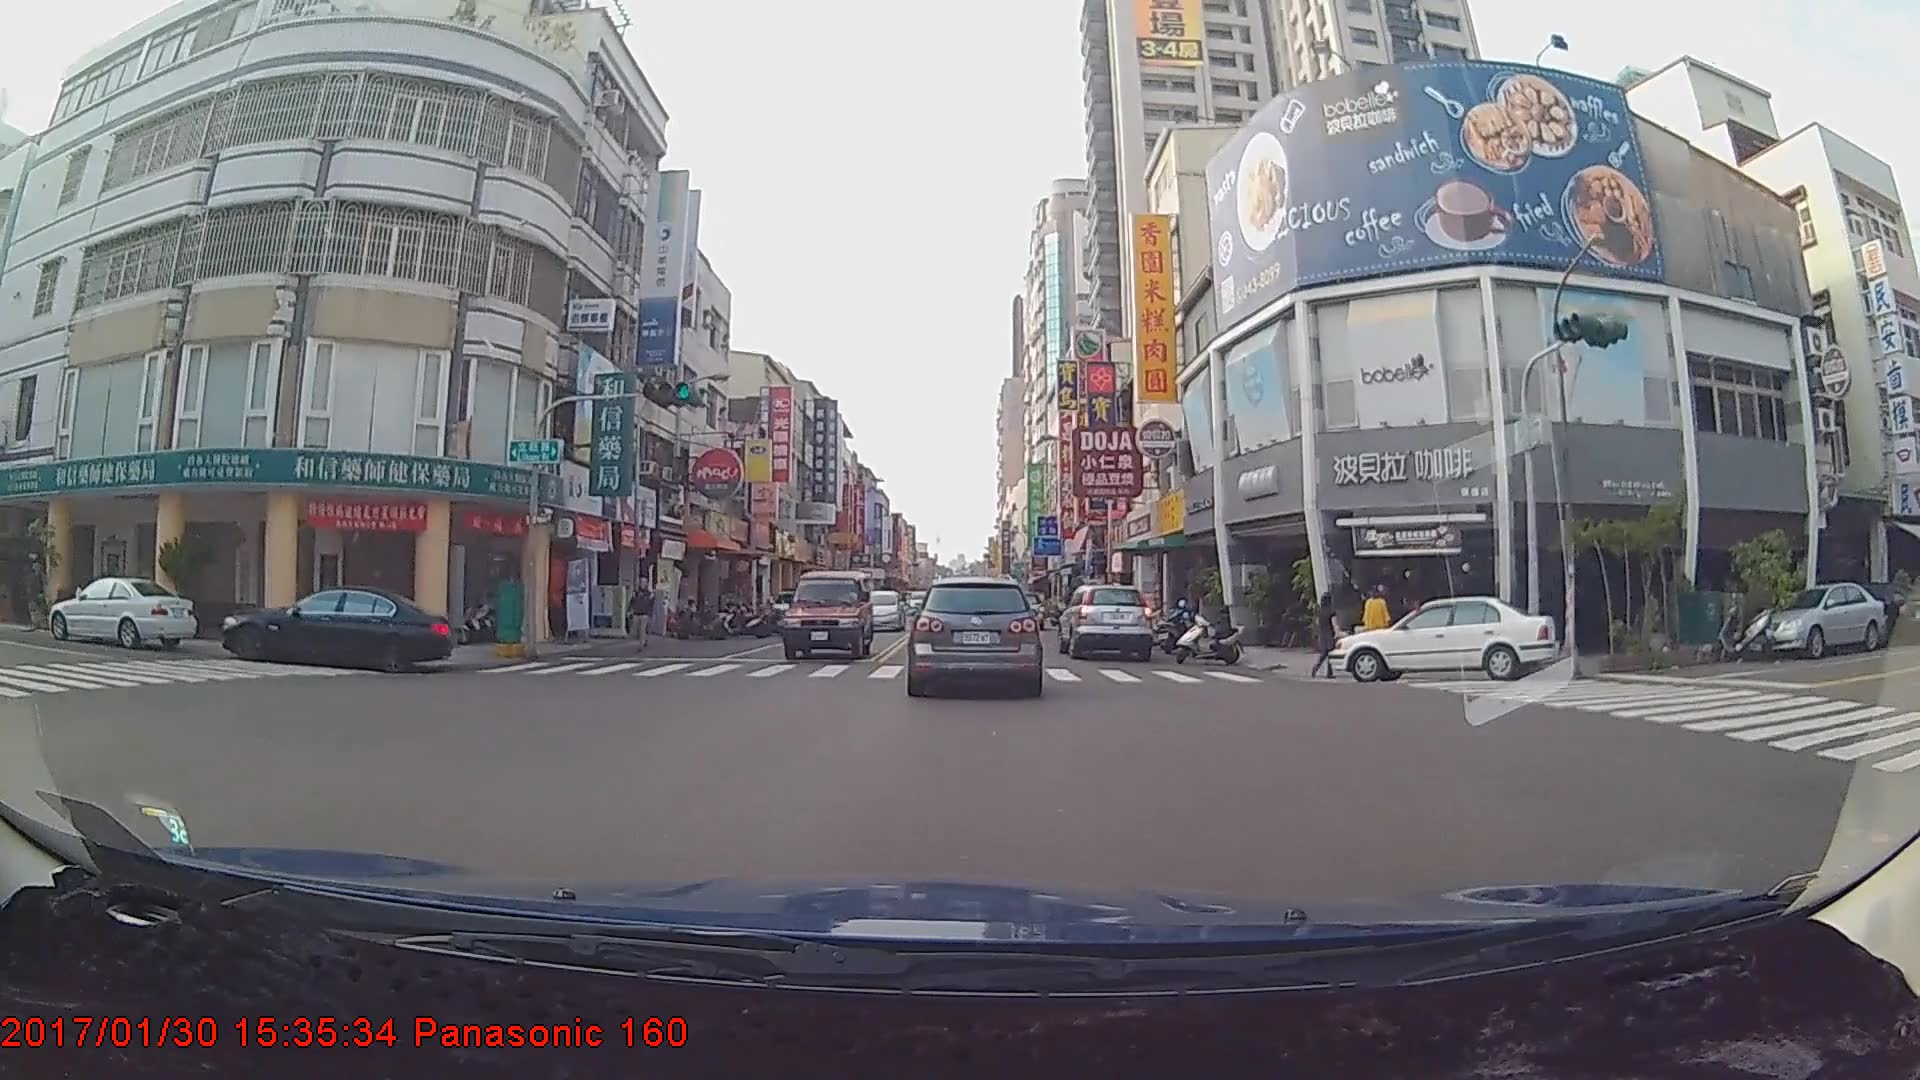pedestrian: (1360, 586, 1396, 668), (1311, 595, 1344, 682), (625, 577, 657, 651)
vehicle: (1327, 594, 1562, 685), (219, 582, 452, 673), (907, 578, 1040, 694), (48, 577, 196, 655), (1754, 580, 1890, 658), (778, 569, 872, 663), (1058, 581, 1154, 662), (857, 589, 907, 632), (767, 590, 815, 628)
